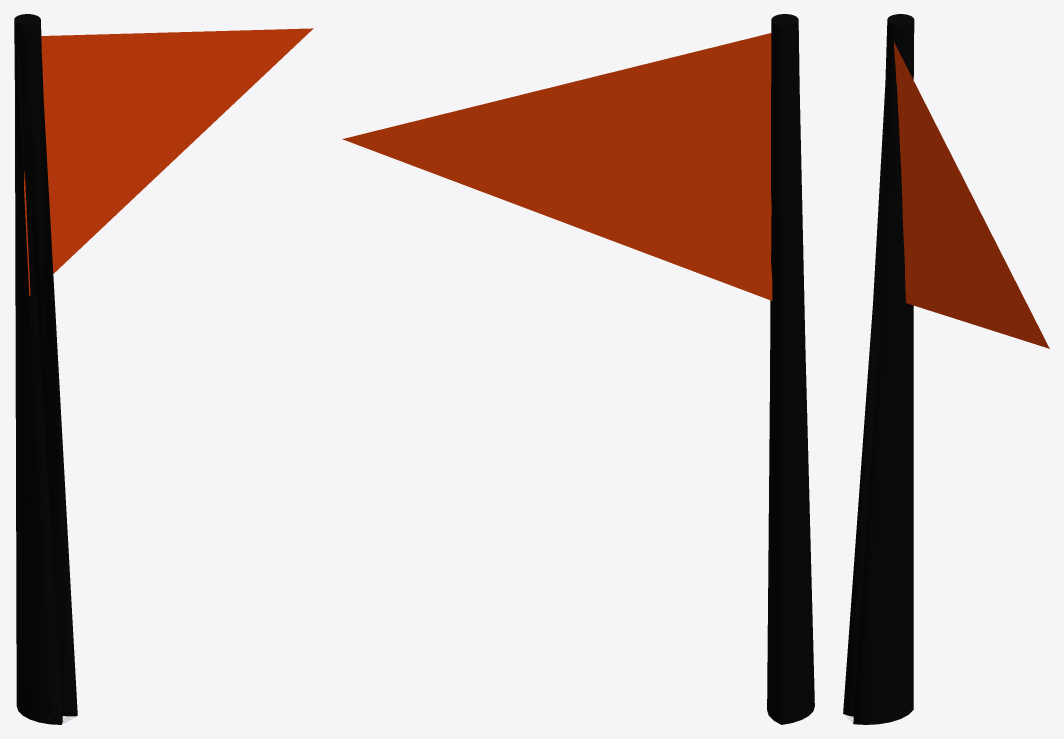
File: flag.dae
3 renders of one model, left to right at view 1: azimuth 30°, elevation 25°; view 2: azimuth 150°, elevation 25°; view 3: azimuth 270°, elevation 25°, orthographic. The views are drawn at different scales.
Visible parts, largest first — view 1: SketchUp (×2); view 2: SketchUp (×2); view 3: SketchUp (×2).
Boxes of the visible parts, x1,y1,x2,y2 form: SketchUp (×2): (14, 14, 313, 724); SketchUp (×2): (342, 14, 814, 724); SketchUp (×2): (843, 14, 1049, 724).
Size of the model in its own units: 2.01 by 0.9558 by 3.53.
